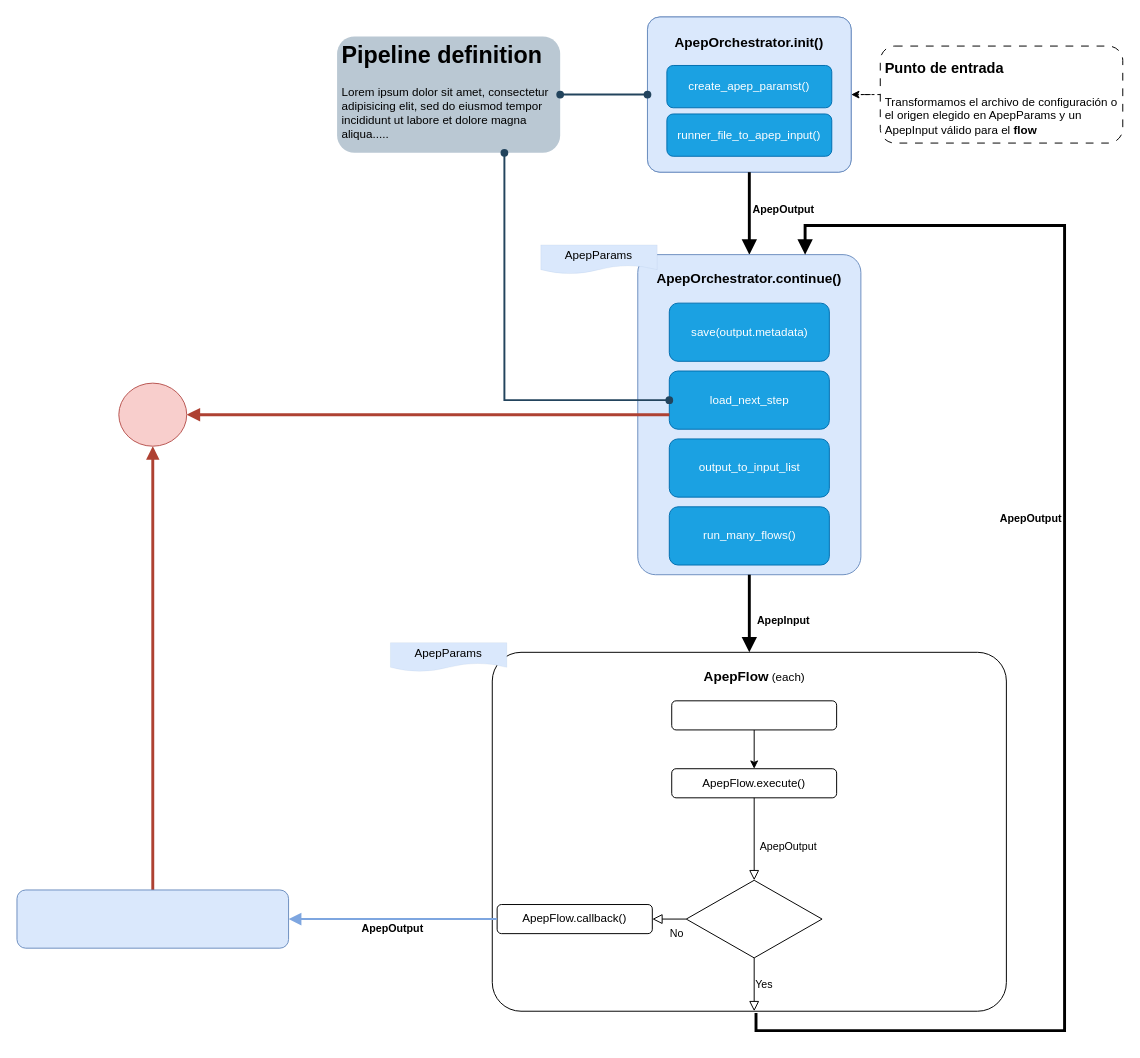
This 1140x1058 diagram has some shape labels left out. The shapes that lost their labels are listed below. From the top down, each one's box as (x1, y1, x2, y2) in pixels, then its label:
(118, 382, 187, 446): END
(671, 700, 837, 730): ApepBuilder.build()
(16, 889, 289, 948): ApepOrchestrator.save(ApepOutput.metadata)
(685, 879, 822, 958): ApepOutput.metadata.status isOk?
